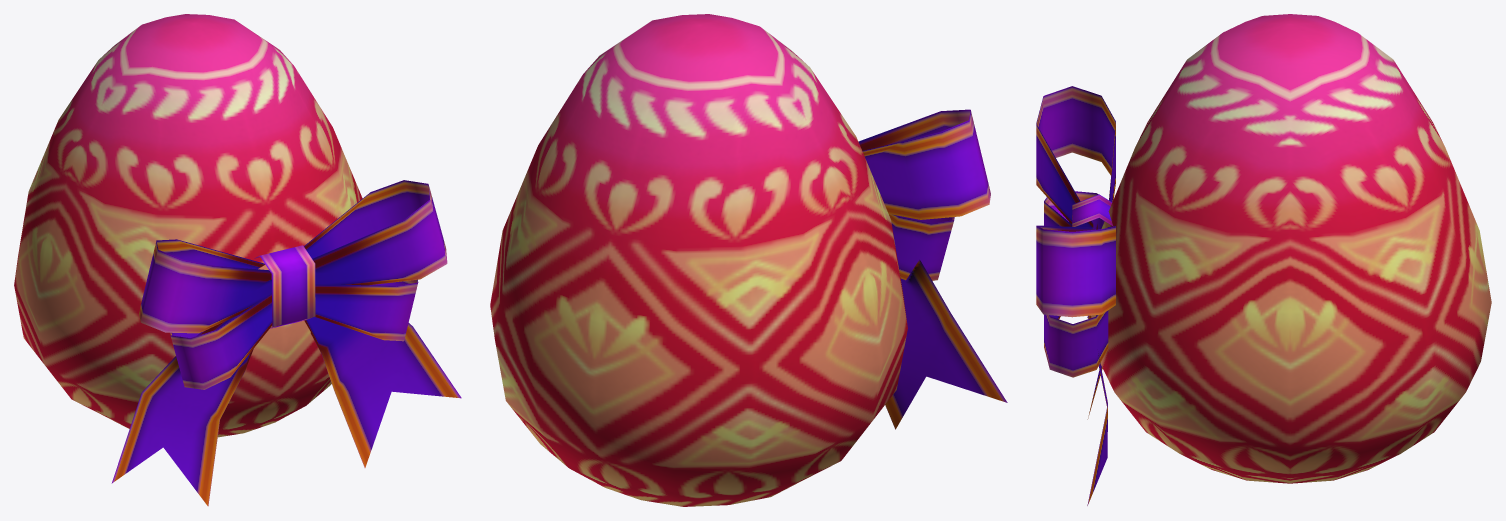
Rendered from egg1.glb.
3 renders of one model, left to right at view 1: azimuth 30°, elevation 25°; view 2: azimuth 150°, elevation 25°; view 3: azimuth 270°, elevation 25°, orthographic. The views are drawn at different scales.
Parts seen in each view (by area): view 1: Egg_Collect_1; view 2: Egg_Collect_1; view 3: Egg_Collect_1.
Part boxes in pixels (<box>): Egg_Collect_1: <box>14,14,461,506</box>; Egg_Collect_1: <box>490,14,1007,506</box>; Egg_Collect_1: <box>1036,14,1491,505</box>.
Bounding box in the file's own units: 1.11 × 1.21 × 1.13.
Materials: 1 (1 with a texture image).
